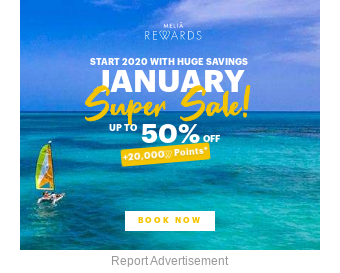fake_button: (112, 193, 224, 243)
